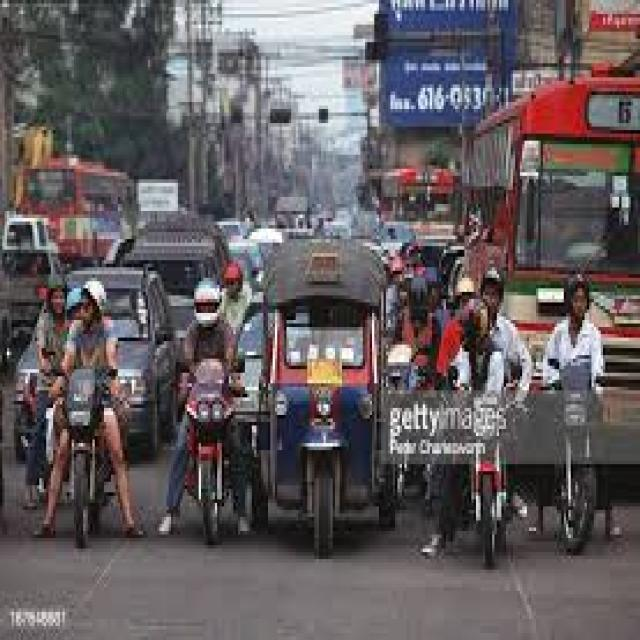bus: (332, 197, 484, 522)
person: (12, 393, 74, 640)
